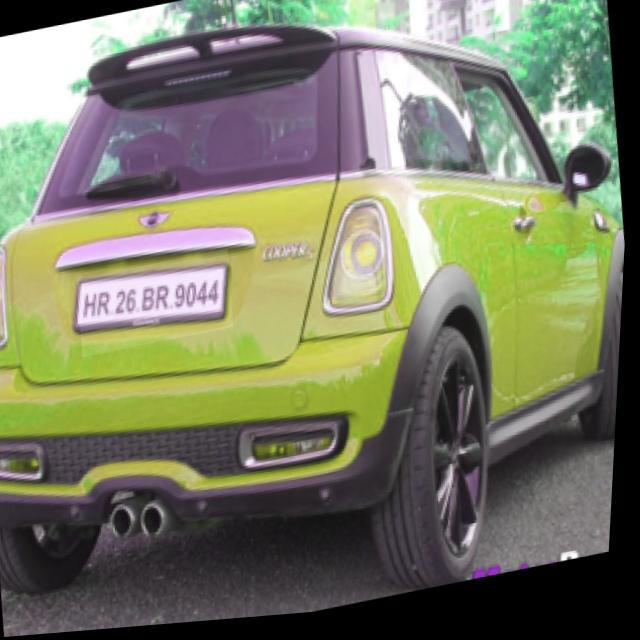license_plate: (76, 251, 240, 360)
